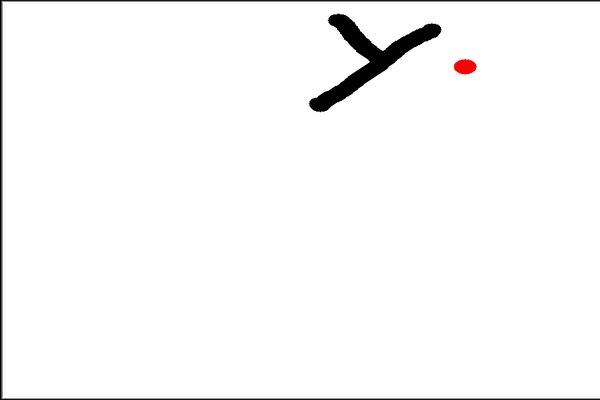Y: (292, 4, 446, 130)
